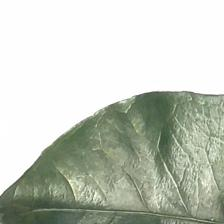healthy: (5, 95, 224, 224)
